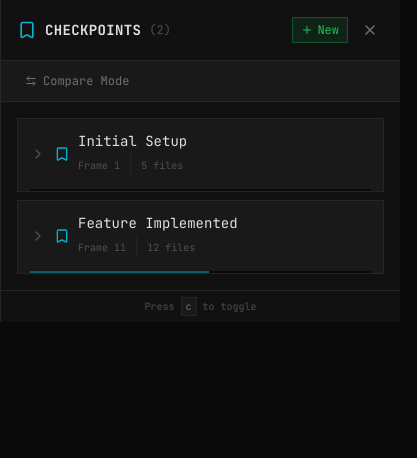
CheckpointPanel › expands checkpoint on click
This screenshot has width=417, height=458.
Click the text "Feature Implemented". click: [158, 223]
box: left=78, top=214, right=238, bottom=232
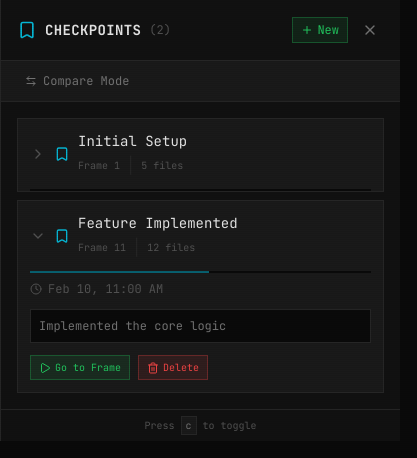
Check: the text "Implemented the core logic" is shown, box left=30, top=309, right=371, bottom=343
Check: the button "Go to Frame" is shown, box left=30, top=355, right=130, bottom=380
